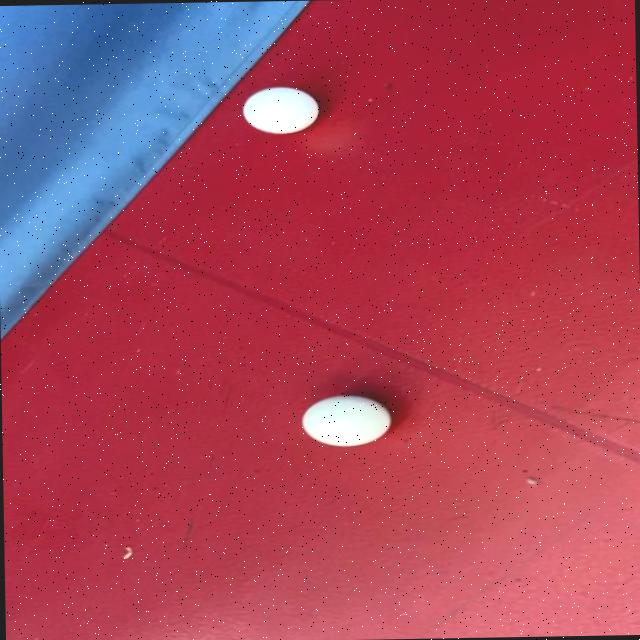ping-pong-ball: (292, 389, 393, 449), (240, 84, 327, 136)
